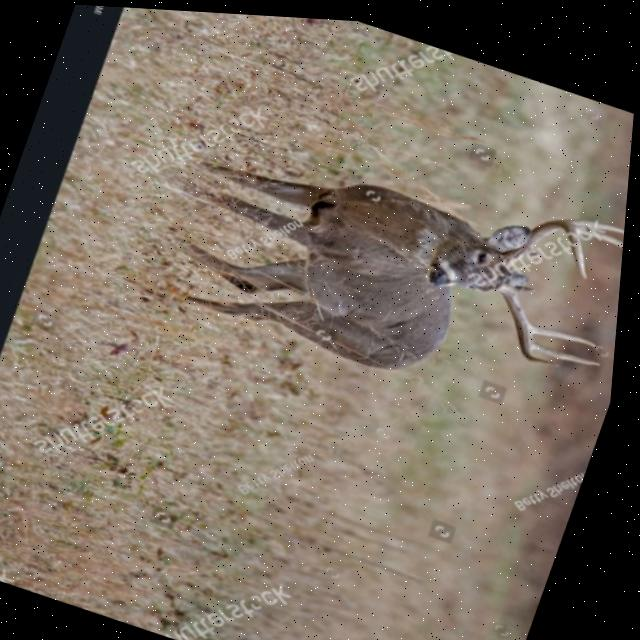L-F: (503, 211, 591, 270)
R-G1: (518, 277, 540, 284)
R-G2: (533, 315, 601, 339)
R-G3: (536, 333, 606, 357)
